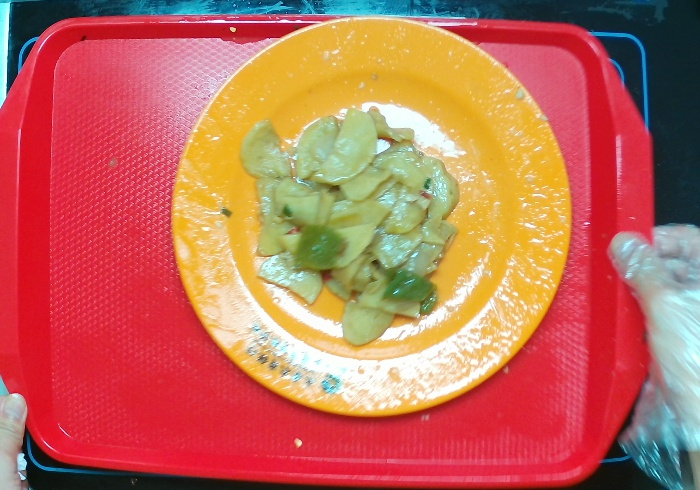YKMZ-Ju_Se_Mian_Pan: (174, 21, 571, 413)
